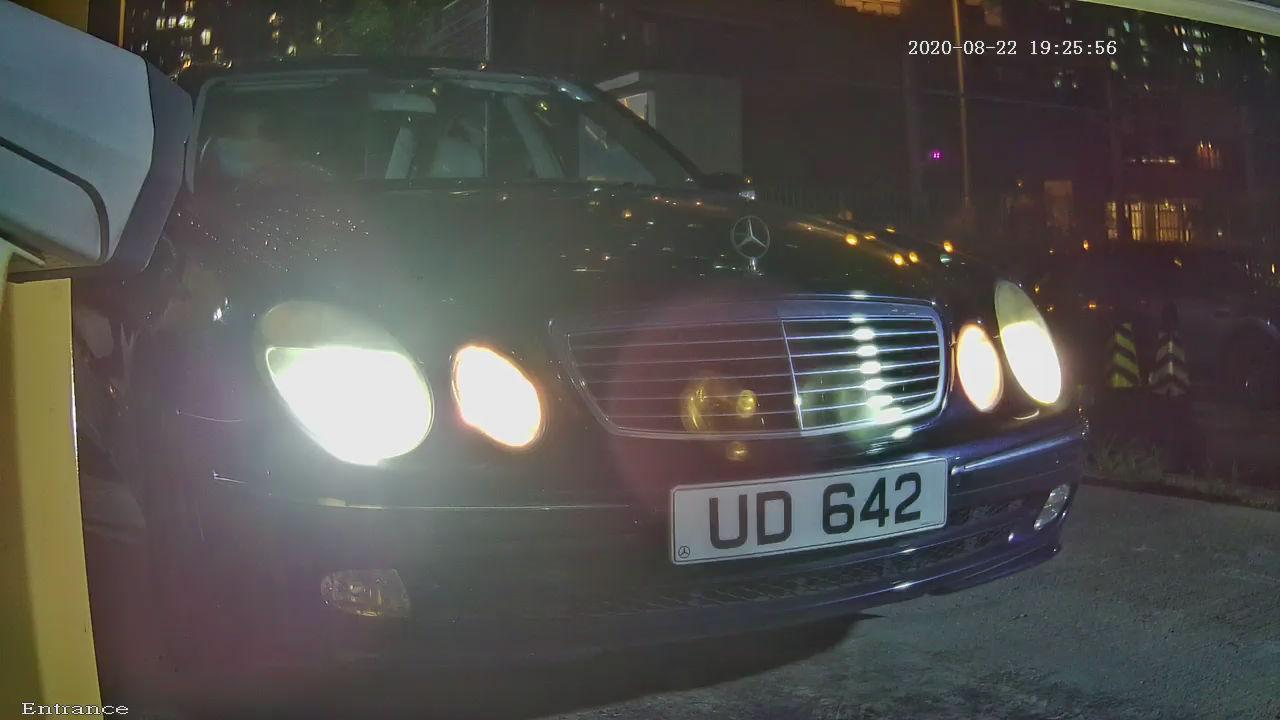Car: (39, 11, 1187, 686)
License Plate: (642, 431, 987, 593)
